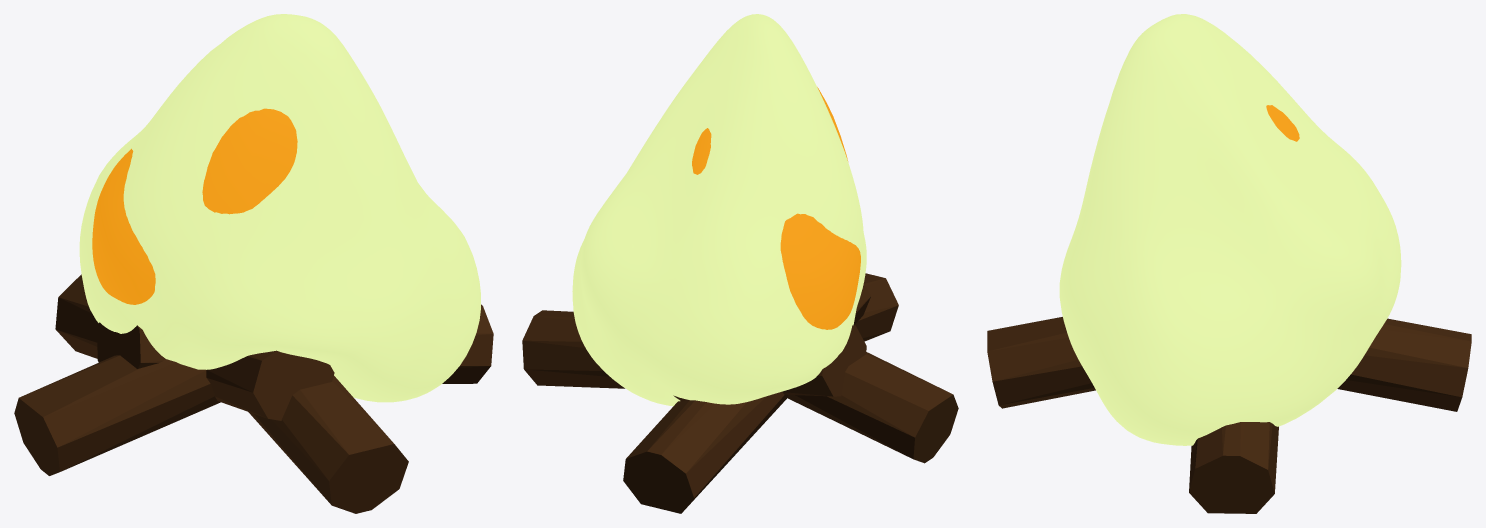
The model's file is fire.glb.
3 views of the same model, side by side, from view 1: azimuth 30°, elevation 25°; view 2: azimuth 150°, elevation 25°; view 3: azimuth 270°, elevation 25° (orthographic). The views are drawn at different scales.
Parts seen in each view (by area): view 1: Flame.002, Cylinder.086, Flame.001, Cylinder.084, Cylinder.085, Cylinder.087; view 2: Flame.002, Cylinder.085, Cylinder.086, Flame.001, Cylinder.087, Cylinder.084; view 3: Flame.002, Cylinder.085, Cylinder.087, Cylinder.084, Flame.001.
Part boxes in pixels (x1=…): Flame.002: x1=79, y1=14, x2=480, y2=402; Cylinder.086: x1=14, y1=355, x2=220, y2=475; Flame.001: x1=92, y1=108, x2=297, y2=304; Cylinder.084: x1=248, y1=376, x2=408, y2=513; Cylinder.085: x1=55, y1=274, x2=334, y2=420; Cylinder.087: x1=96, y1=304, x2=493, y2=383; Flame.002: x1=572, y1=14, x2=866, y2=406; Cylinder.085: x1=623, y1=283, x2=870, y2=513; Cylinder.086: x1=787, y1=352, x2=958, y2=463; Flame.001: x1=692, y1=87, x2=860, y2=329; Cylinder.087: x1=522, y1=310, x2=866, y2=396; Cylinder.084: x1=673, y1=273, x2=898, y2=401; Flame.002: x1=1059, y1=14, x2=1401, y2=445; Cylinder.085: x1=1337, y1=318, x2=1471, y2=411; Cylinder.087: x1=1189, y1=422, x2=1278, y2=513; Cylinder.084: x1=987, y1=317, x2=1095, y2=408; Flame.001: x1=1266, y1=105, x2=1299, y2=141.
Size of the model in its own units: 0.628 by 0.5718 by 0.6257.
